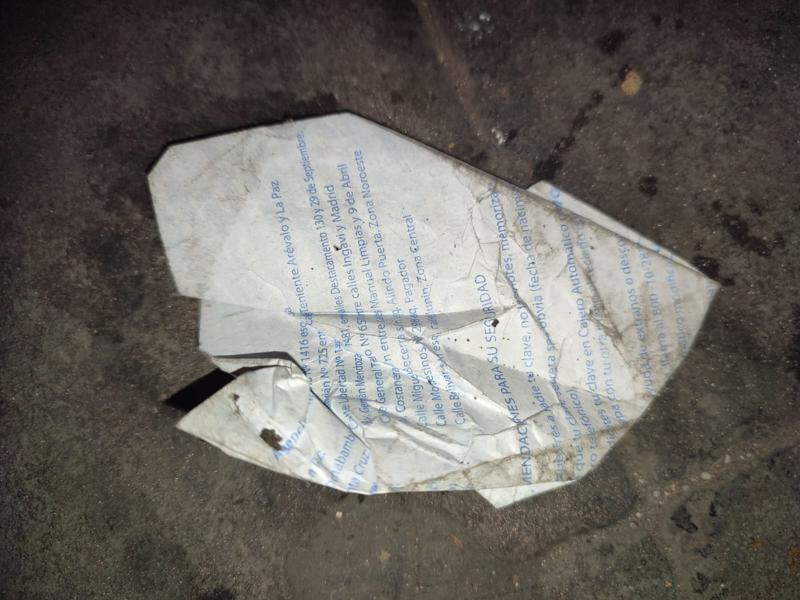papel: (146, 113, 720, 512)
